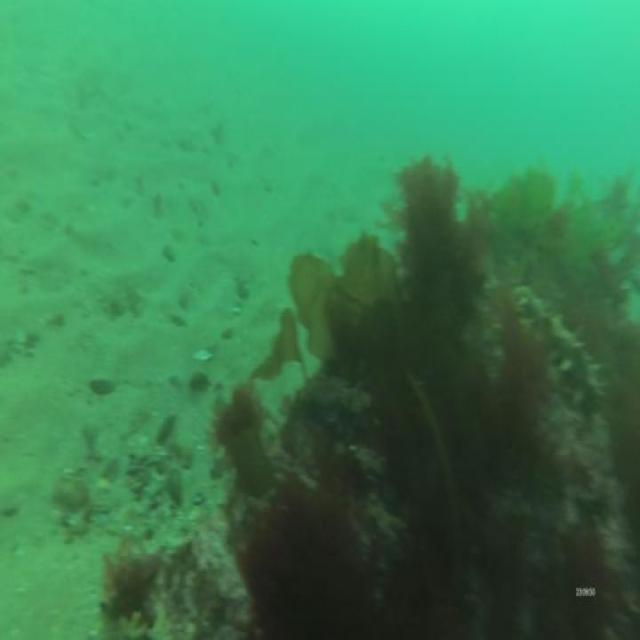holothurian: (512, 275, 611, 420)
waterweeds: (215, 151, 640, 640)
